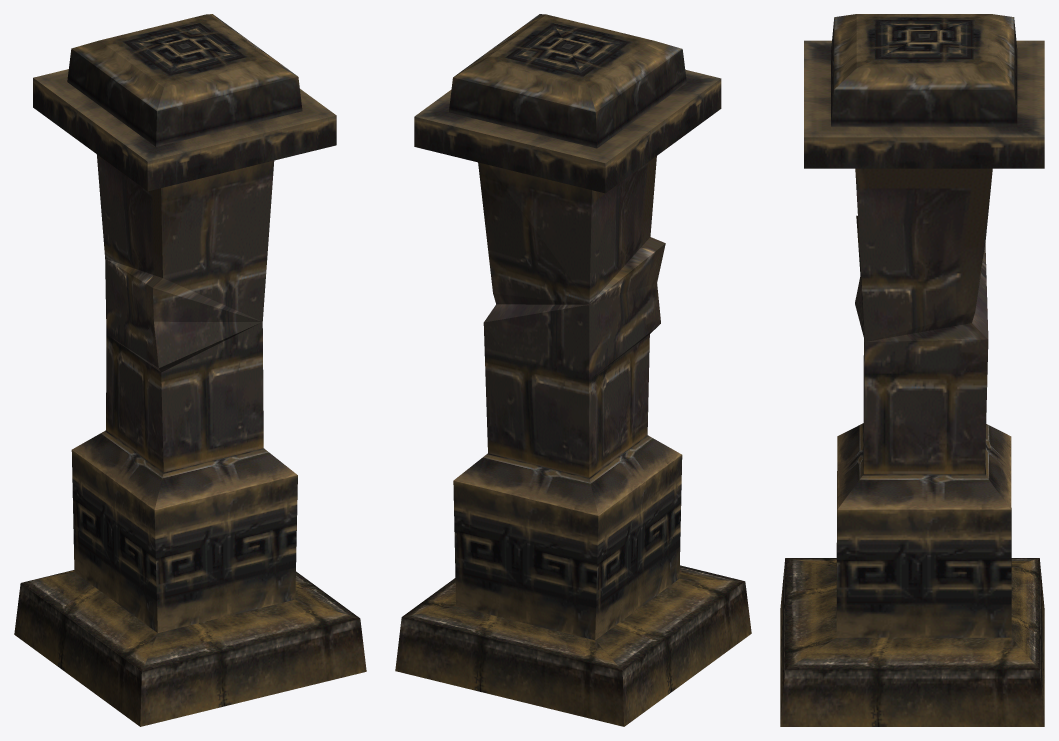
File: 10502_building06.FBX
The picture shows the model from 3 angles, left to right: view 1: azimuth 30°, elevation 25°; view 2: azimuth 150°, elevation 25°; view 3: azimuth 270°, elevation 25°; orthographic projection. The views are drawn at different scales.
Visible parts, largest first — view 1: 10502_building06; view 2: 10502_building06; view 3: 10502_building06.
Boxes of the visible parts, x1,y1,x2,y2 form: 10502_building06: (14, 14, 366, 726); 10502_building06: (395, 14, 751, 726); 10502_building06: (780, 14, 1044, 726).
Size of the model in its own units: 193 by 493 by 186.
